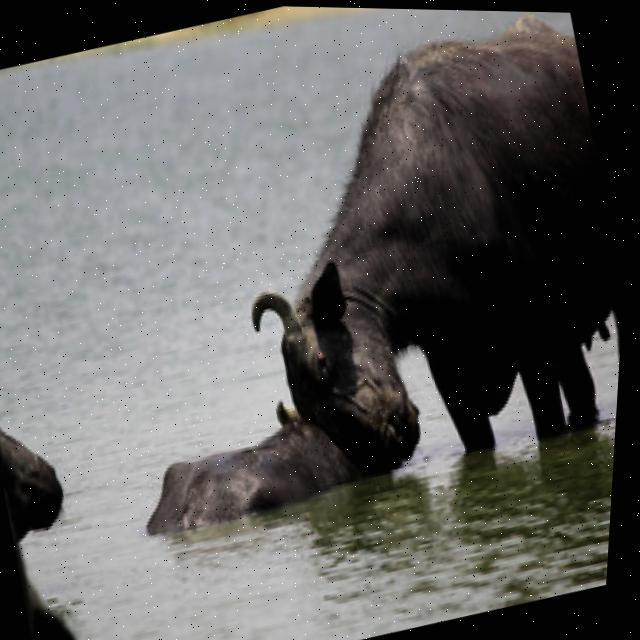Buffalo: (180, 5, 640, 506)
